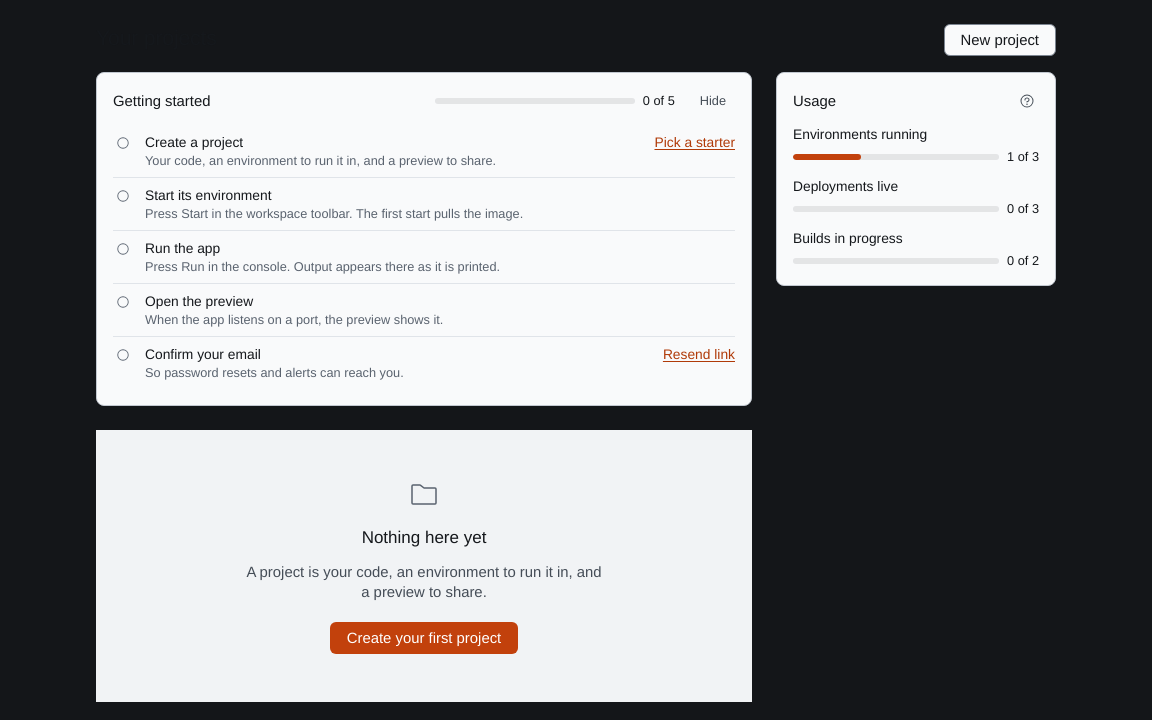
Test case: ProjectsPage › rejects an empty name before contacting the server
The width and height of the screenshot is (1152, 720).
Expected: the text "Nothing here yet" is shown, [362,526,486,550]
Click the button "Create your first project" at (424, 638), box [330,622,518,654]
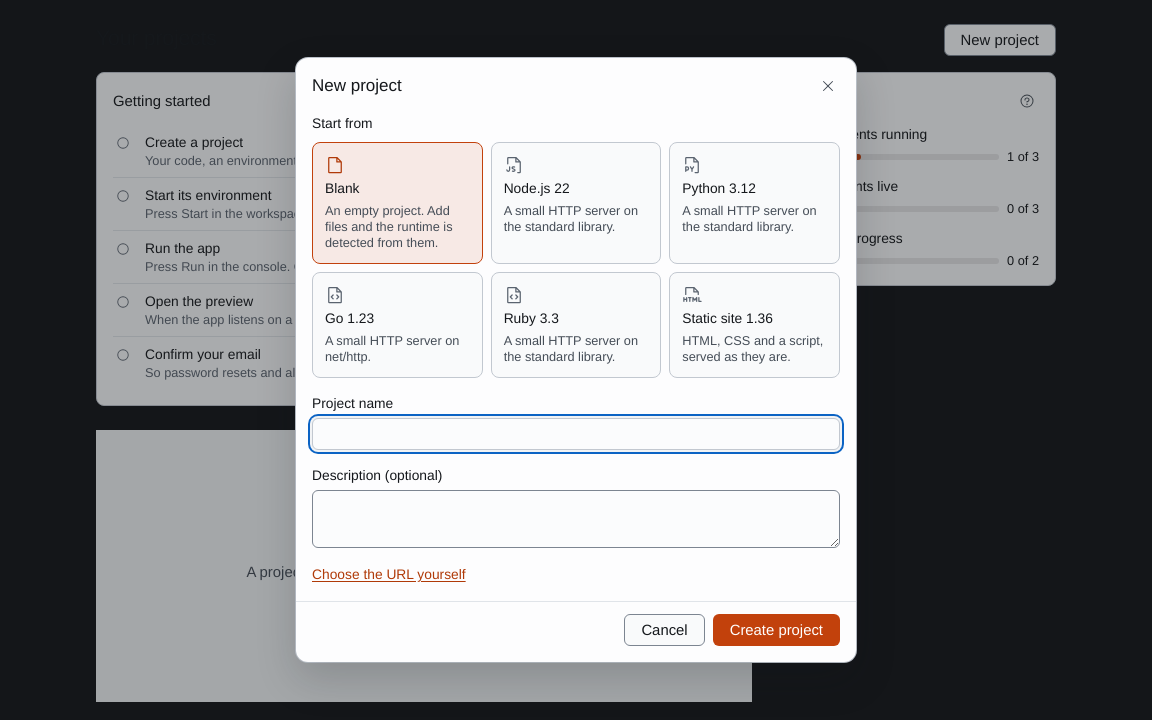
Click the button "Create project" at (776, 630), box [713,614,840,646]
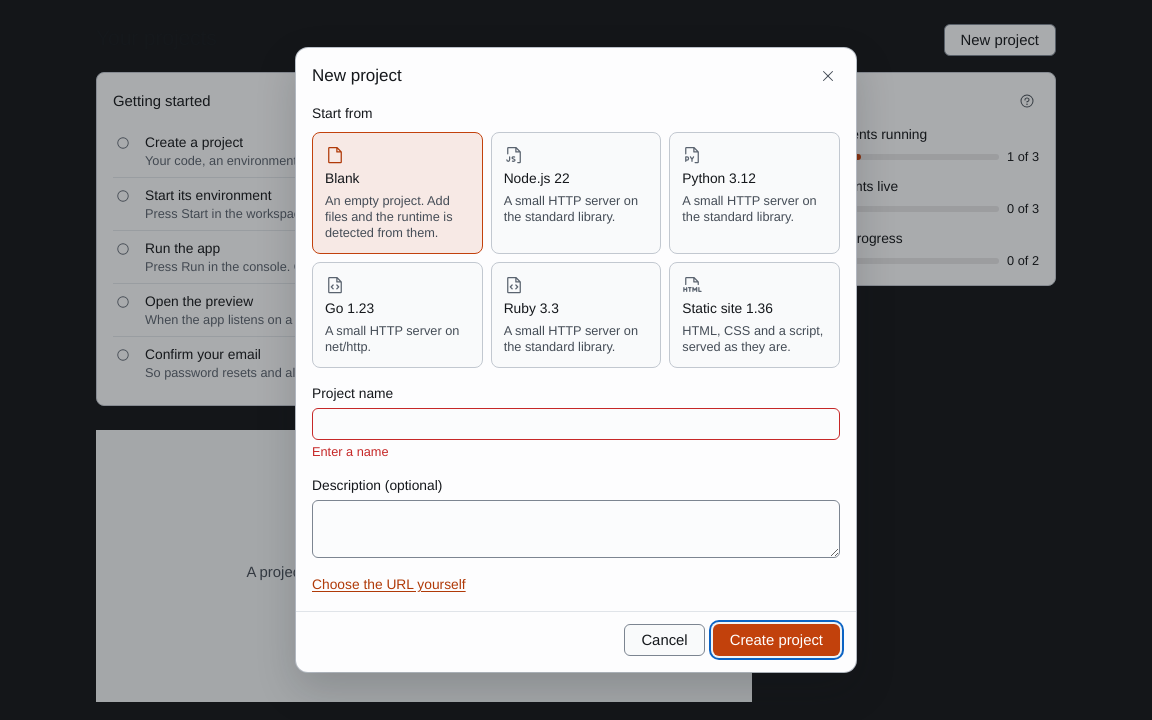
Expected: the text "Enter a name" is shown, [312,444,388,460]
